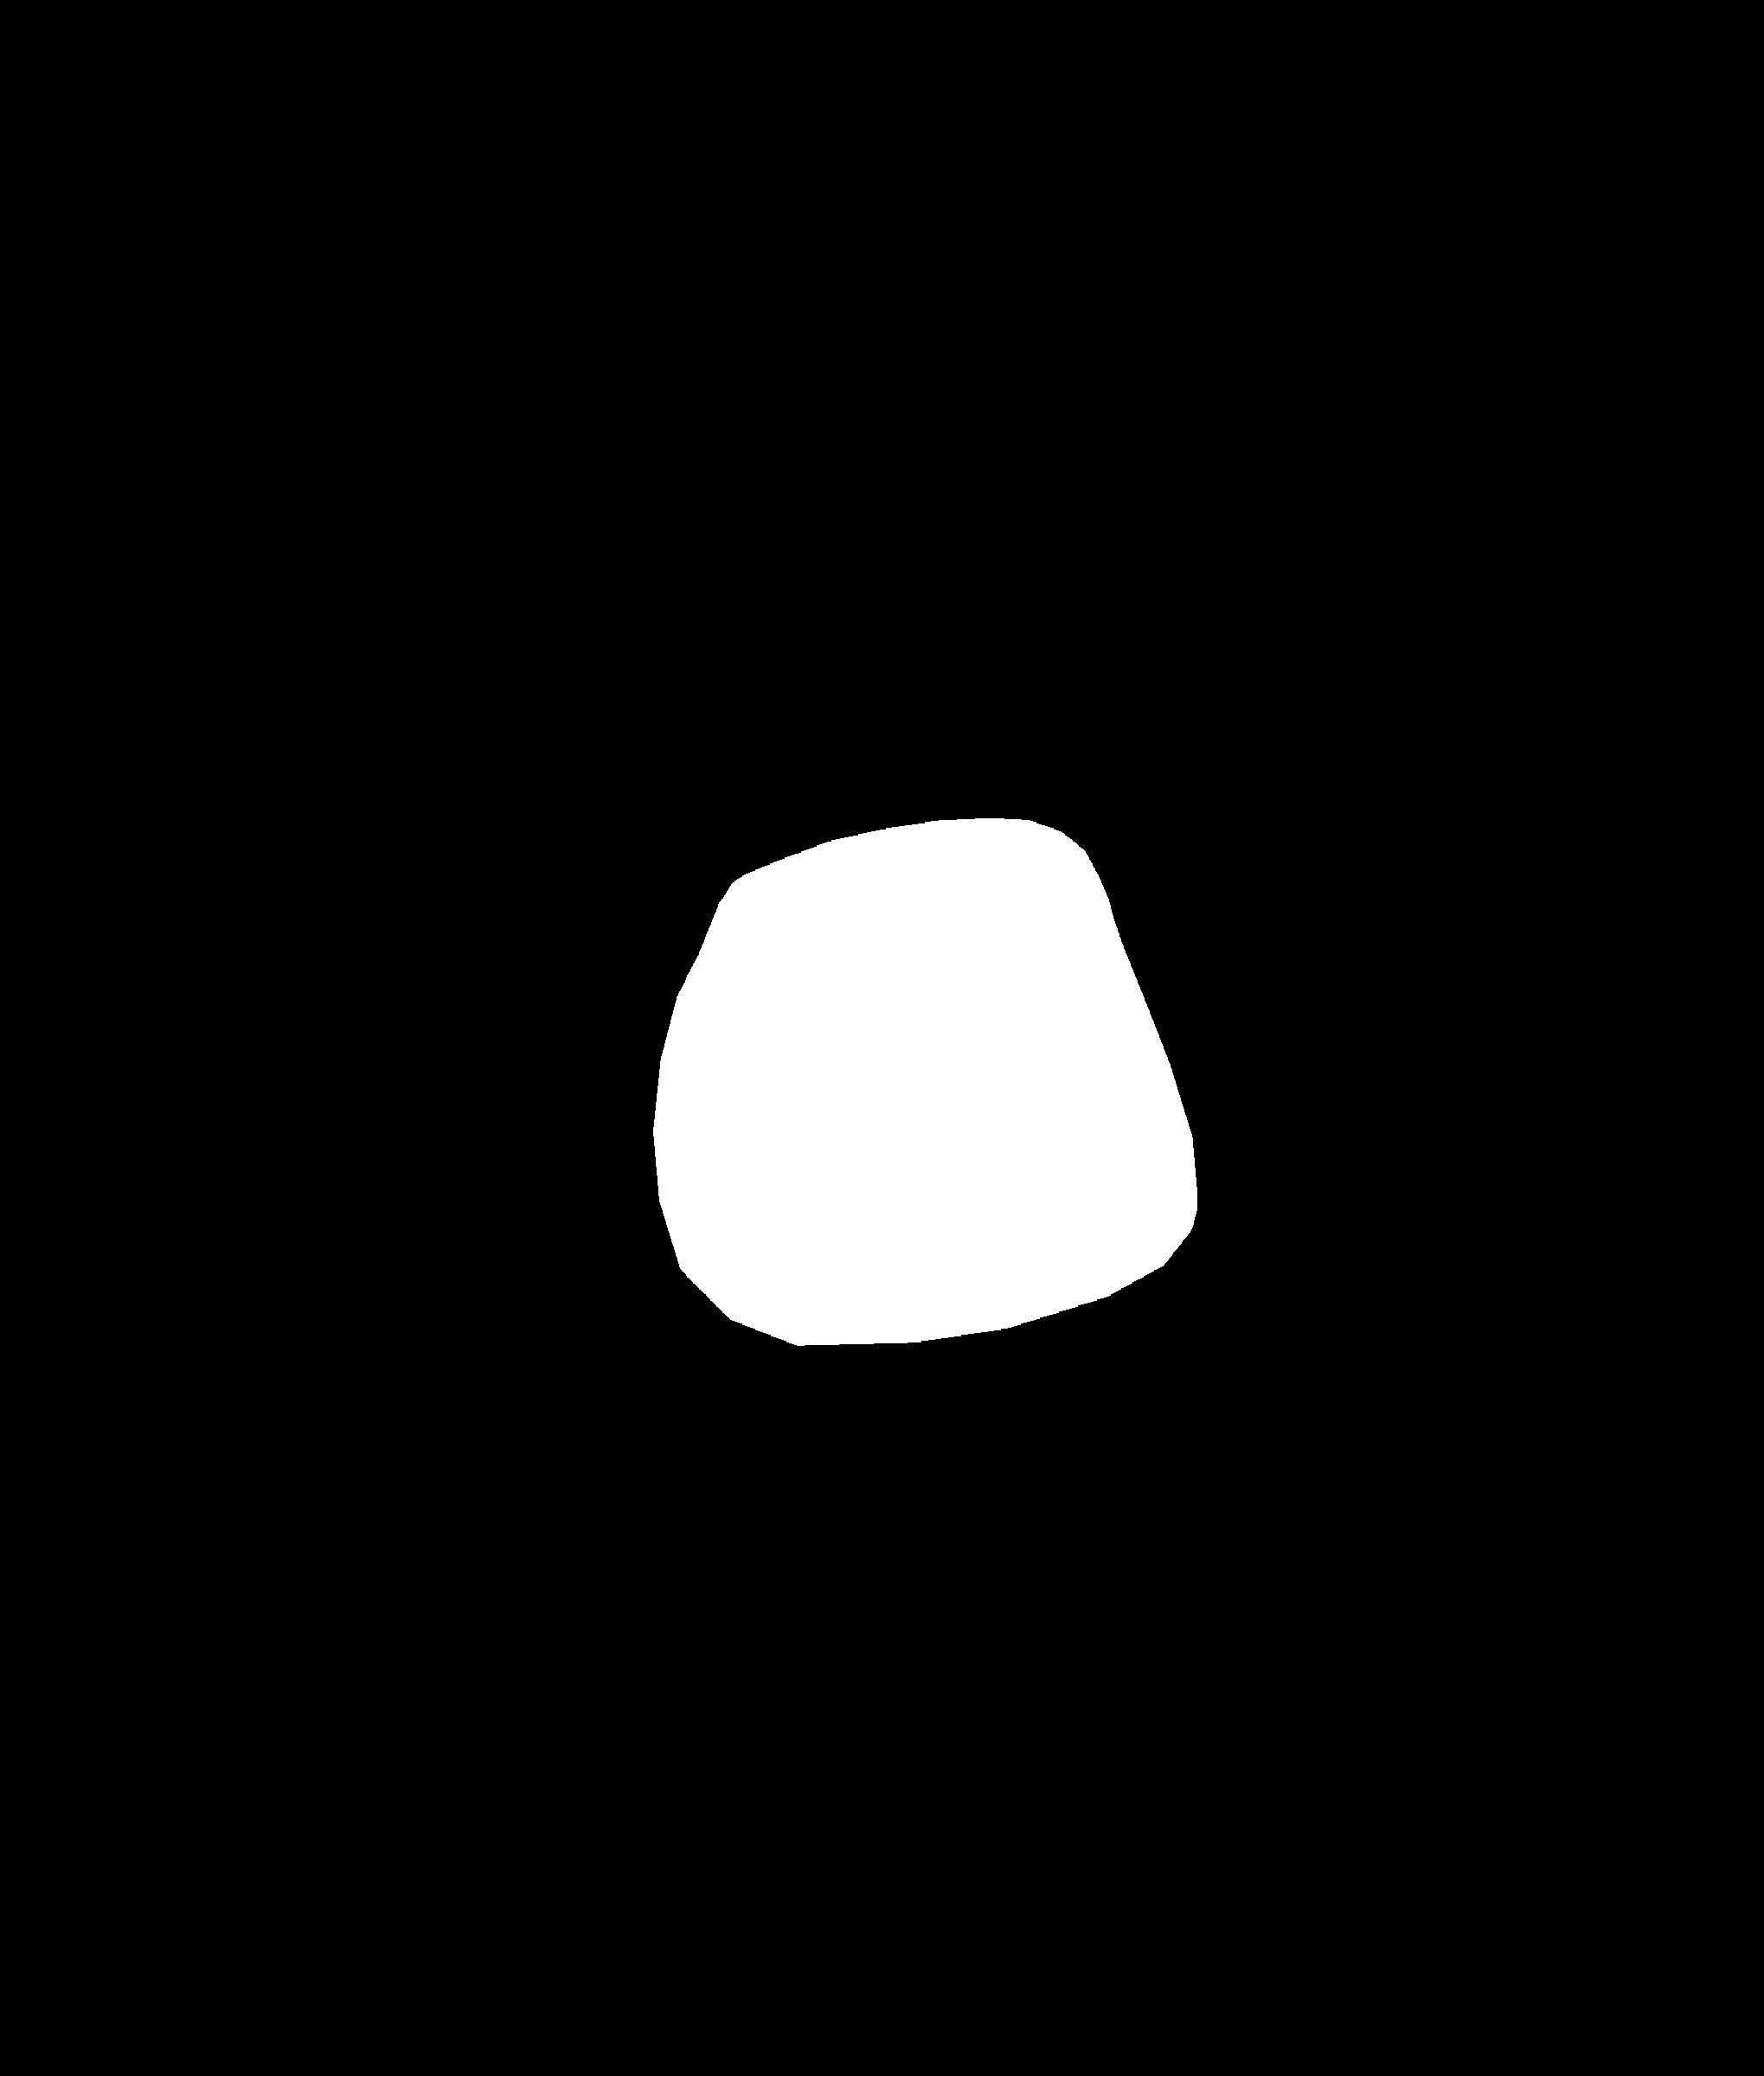heart: (649, 927, 1200, 1348)
left_lung: (238, 304, 761, 1539)
right_lung: (969, 334, 1526, 1681)
